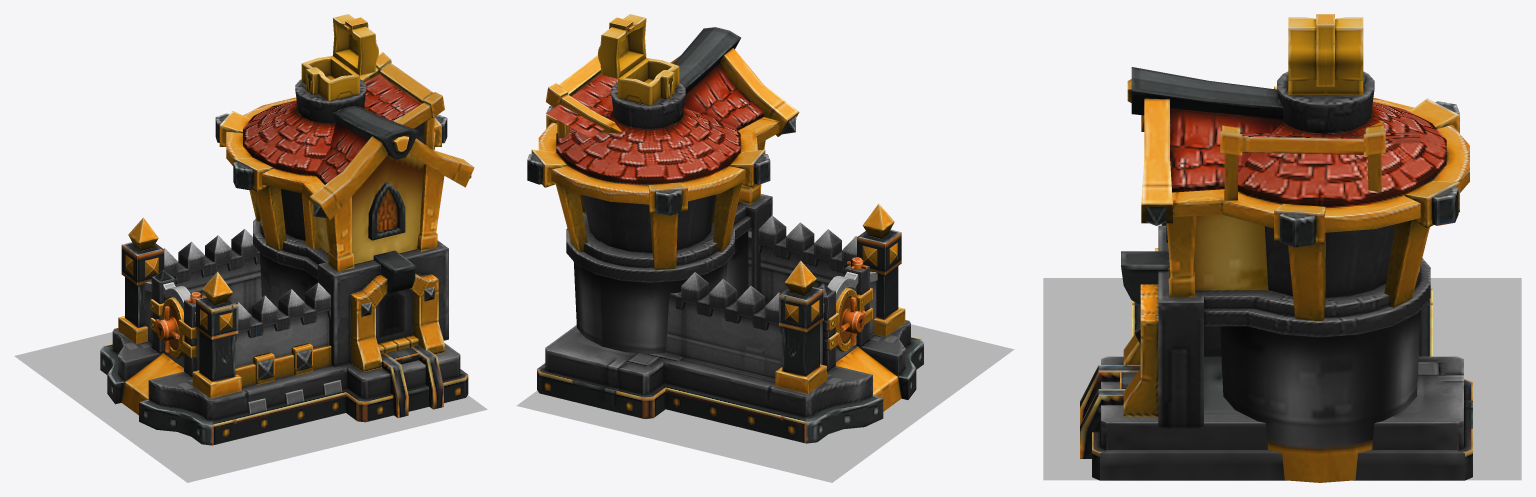
File: C_Treasury_LV6.fbx
3 renders of one model, left to right at view 1: azimuth 30°, elevation 25°; view 2: azimuth 150°, elevation 25°; view 3: azimuth 270°, elevation 25°, orthographic. The views are drawn at different scales.
Parts seen in each view (by area): view 1: Teasury_LV05_0_mesh, Teasury_LV05_1_mesh; view 2: Teasury_LV05_0_mesh, Teasury_LV05_1_mesh; view 3: Teasury_LV05_0_mesh, Teasury_LV05_1_mesh.
Part boxes in pixels (<box>): Teasury_LV05_0_mesh: <box>100,14,474,445</box>; Teasury_LV05_1_mesh: <box>14,332,487,482</box>; Teasury_LV05_0_mesh: <box>527,14,923,443</box>; Teasury_LV05_1_mesh: <box>516,324,1014,482</box>; Teasury_LV05_0_mesh: <box>1080,14,1472,482</box>; Teasury_LV05_1_mesh: <box>1043,278,1521,480</box>.
Size of the model in its own units: 140 by 122 by 120.
